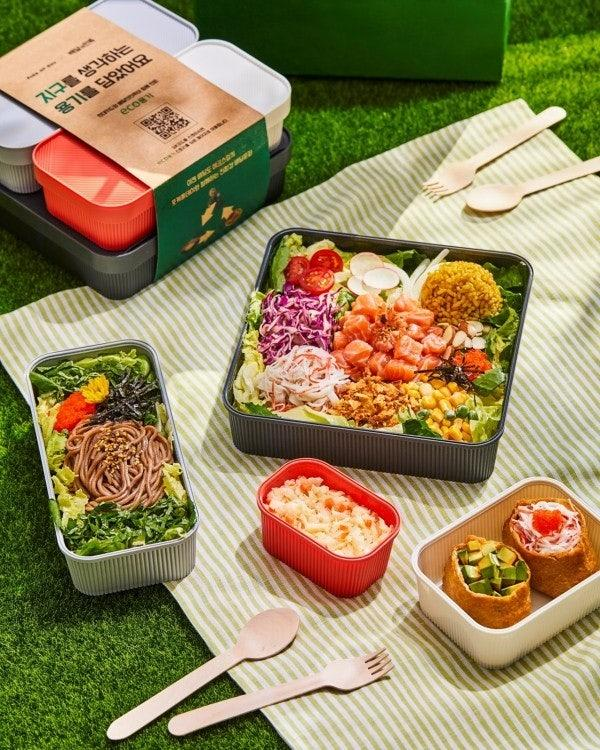Lunch Box: (222, 228, 532, 482), (27, 340, 198, 594), (412, 477, 599, 667), (257, 459, 400, 596)
